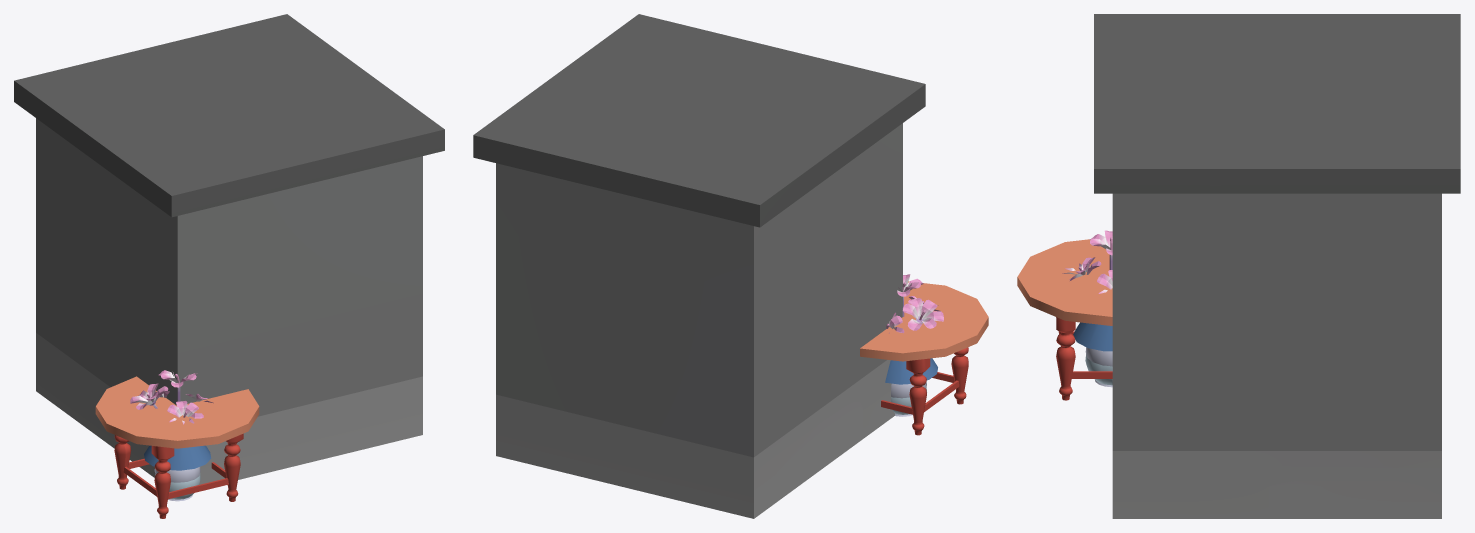
File: Hallway.fbx
The picture shows the model from 3 angles, left to right: view 1: azimuth 30°, elevation 25°; view 2: azimuth 150°, elevation 25°; view 3: azimuth 270°, elevation 25°; orthographic projection. The views are drawn at different scales.
Visible parts, largest first — view 1: Tile_tuong, Ban, Lo_hoa, Den; view 2: Tile_tuong, Ban, Lo_hoa, Den; view 3: Tile_tuong, Ban, Lo_hoa, Den.
Part boxes in pixels (x1=…): Tile_tuong: x1=14, y1=14, x2=444, y2=484; Ban: x1=95, y1=376, x2=259, y2=518; Lo_hoa: x1=130, y1=370, x2=213, y2=501; Den: x1=144, y1=445, x2=211, y2=499; Tile_tuong: x1=473, y1=14, x2=925, y2=518; Ban: x1=860, y1=281, x2=988, y2=435; Lo_hoa: x1=886, y1=274, x2=943, y2=416; Den: x1=885, y1=358, x2=937, y2=414; Tile_tuong: x1=1094, y1=14, x2=1460, y2=518; Ban: x1=1017, y1=239, x2=1112, y2=400; Lo_hoa: x1=1062, y1=230, x2=1112, y2=387; Den: x1=1073, y1=322, x2=1112, y2=385.
Size of the model in its own units: 134 by 120 by 134.
